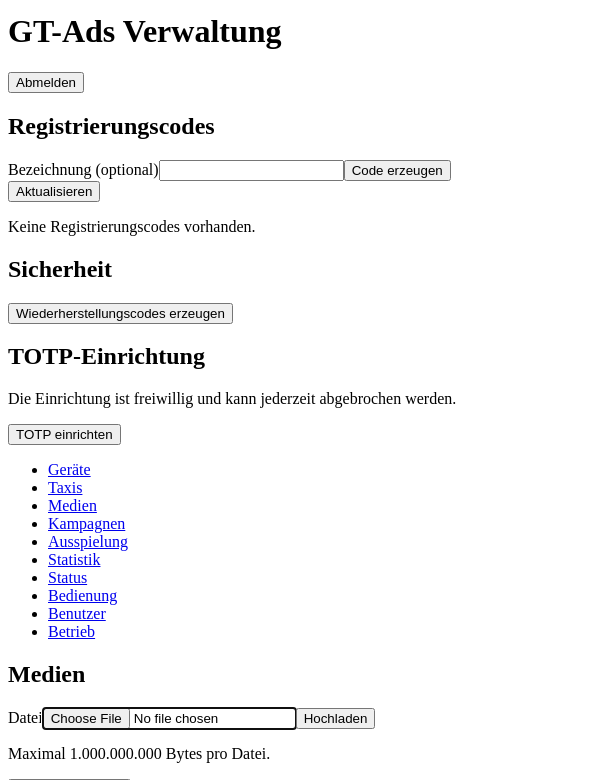
Test case: CX-039 Medienseite › weist Uebergroesse vor dem Versand ab und laesst exakt die CX-155-Profilgrenze zu
Earlier steps of the test are not shown.
Later steps or results of the test are not shown.
Expected: the heading "Medien" is shown, [8,661,85,687]
Click the button "Hochladen".
click(336, 719)  # box [296,708,375,729]
(page scrolled)
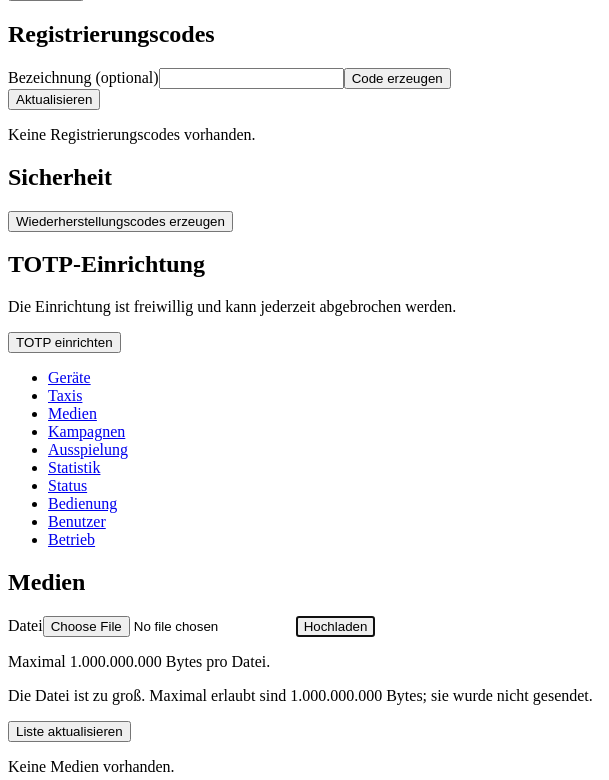
Expected: the message shows "zu groß", [8,687,593,704]
Expected: the message shows "1.000.000.000", [8,687,593,704]
